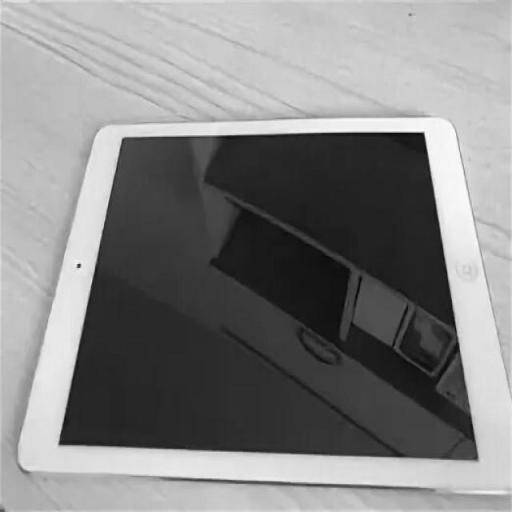phone: (16, 111, 511, 492)
